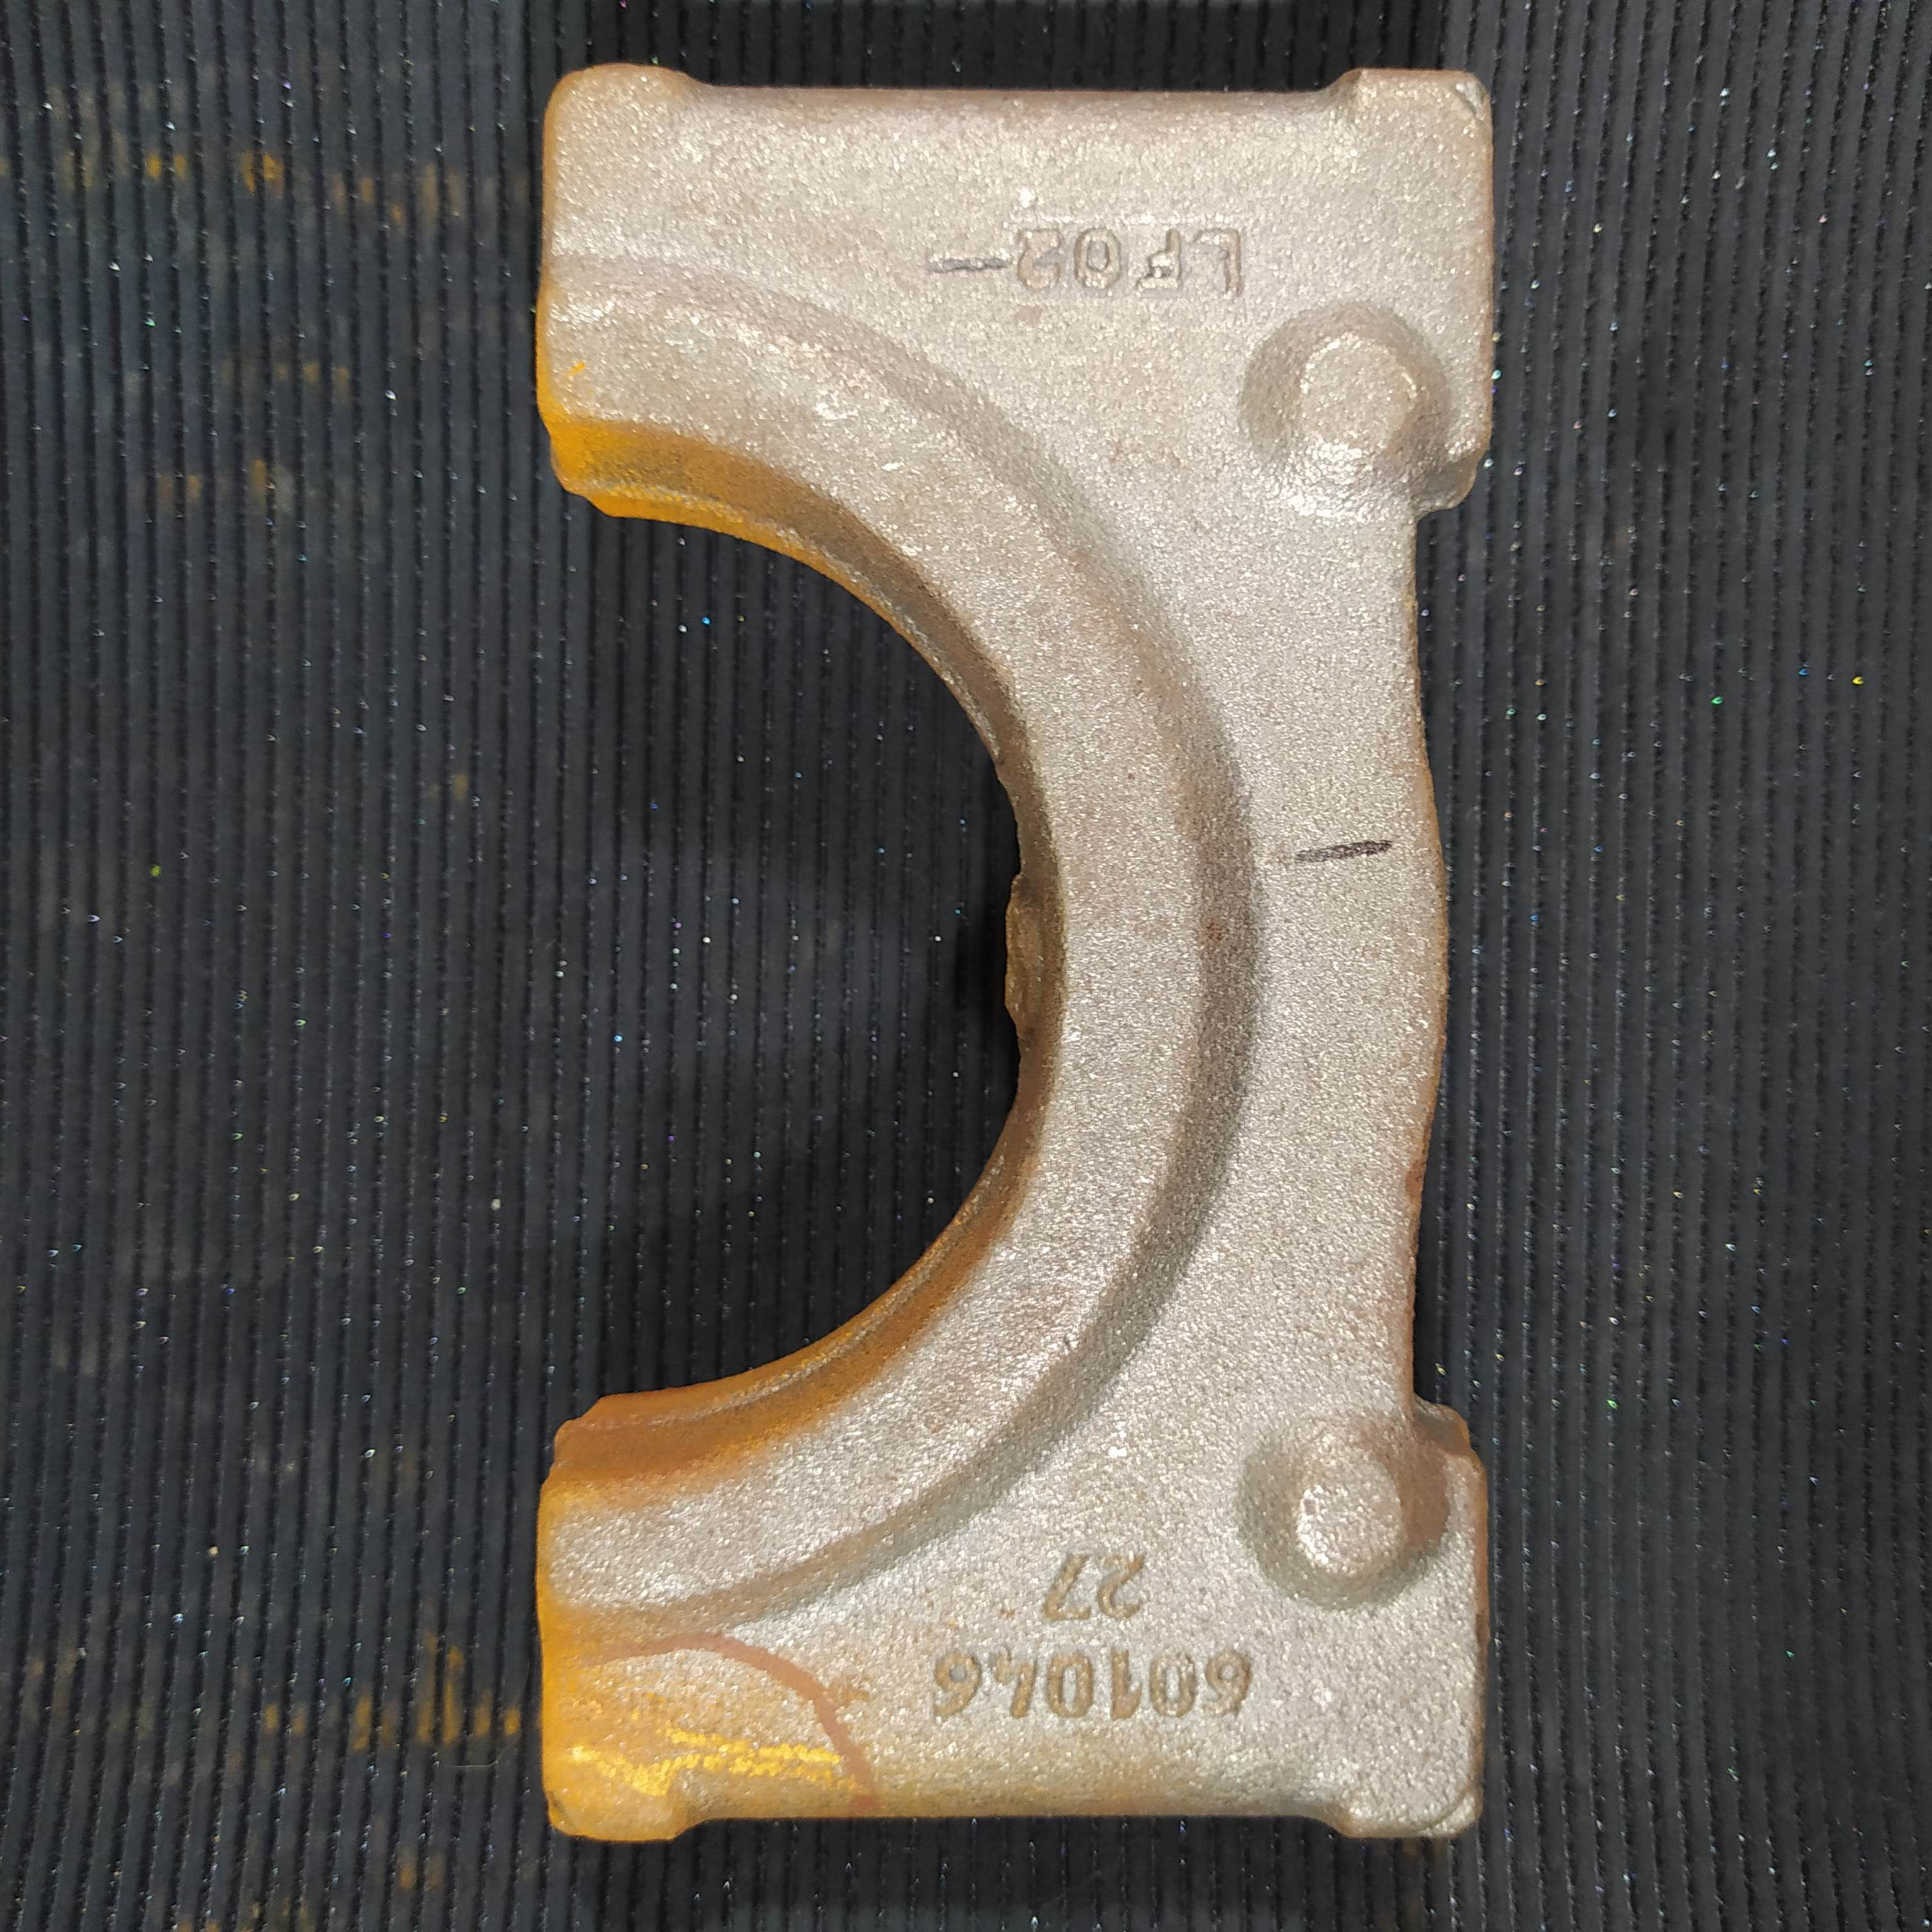rechupe: (1412, 1780, 1474, 1838), (1449, 73, 1488, 133), (538, 1785, 579, 1833)
